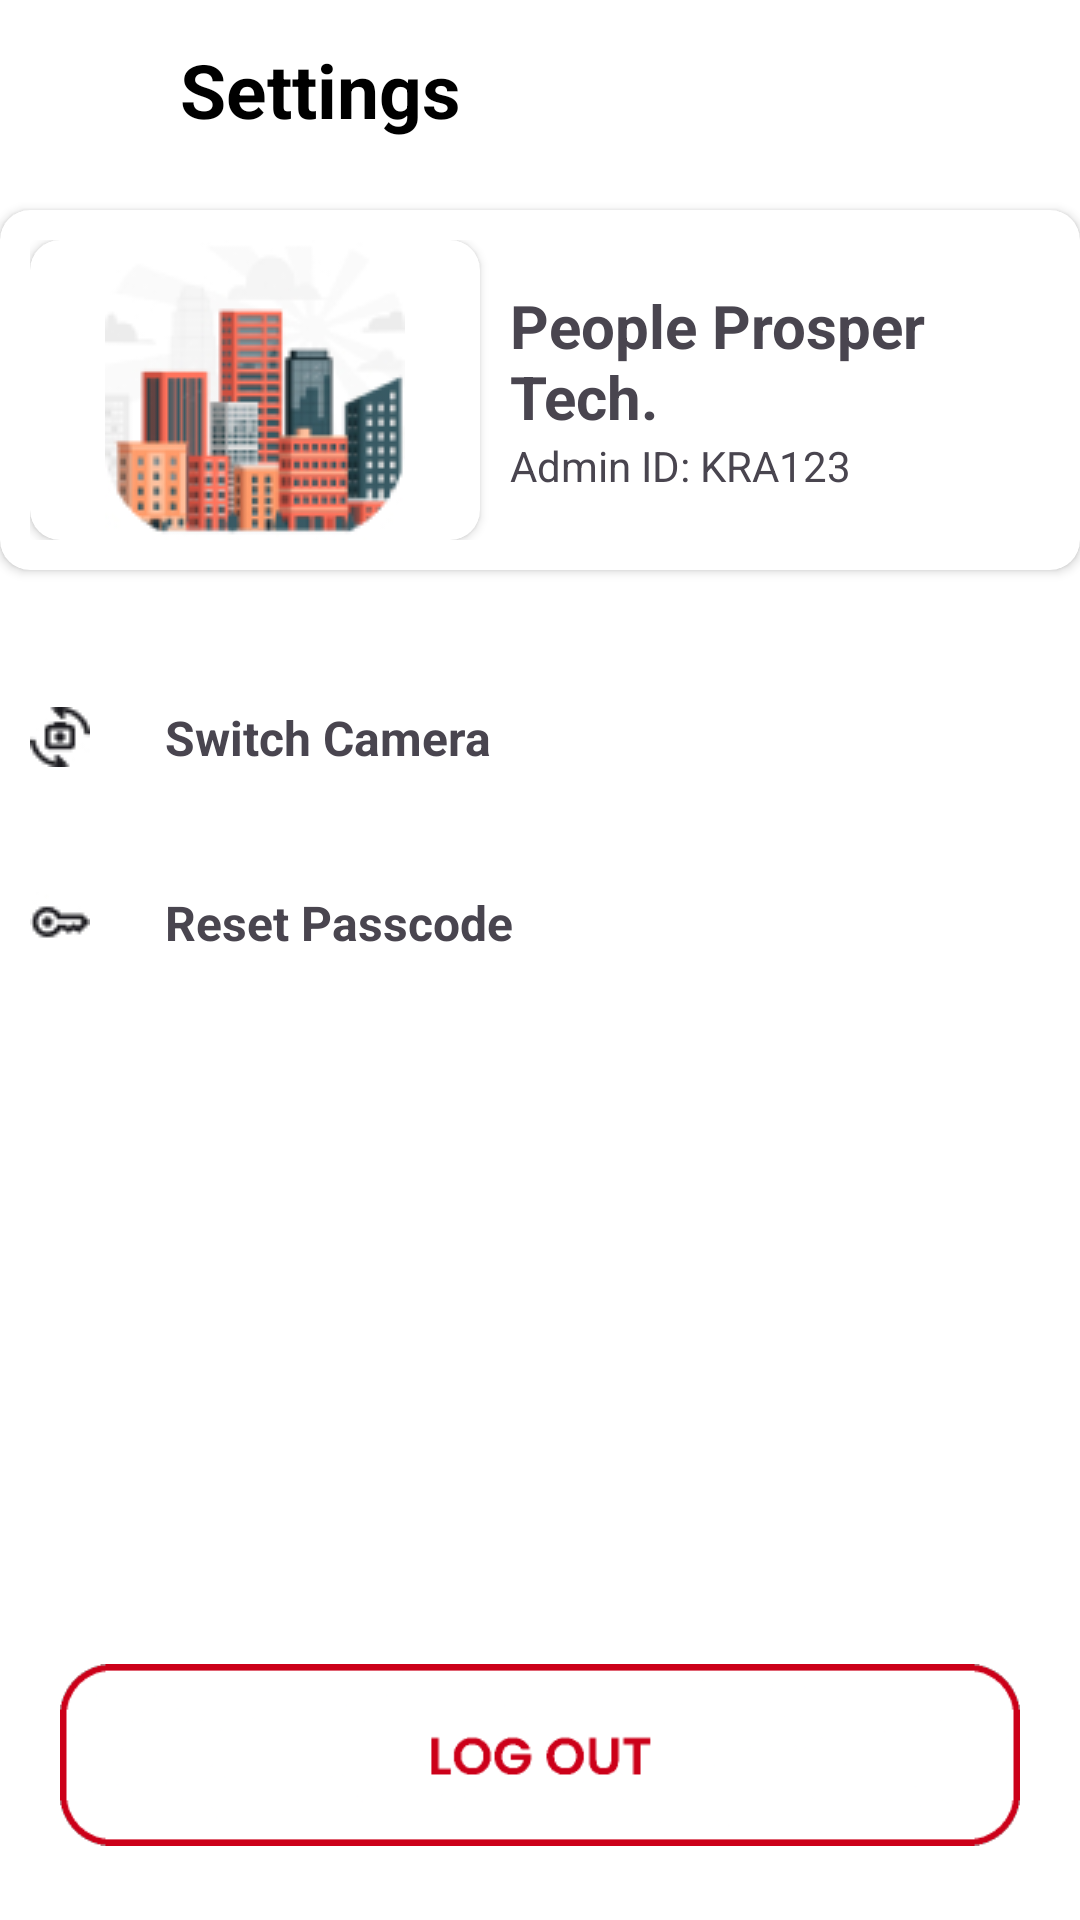

Screen size 1080 × 1920. Icon name, then its center in pixels as (x,y):
cameraswitch: (60,737)
key: (60,922)
